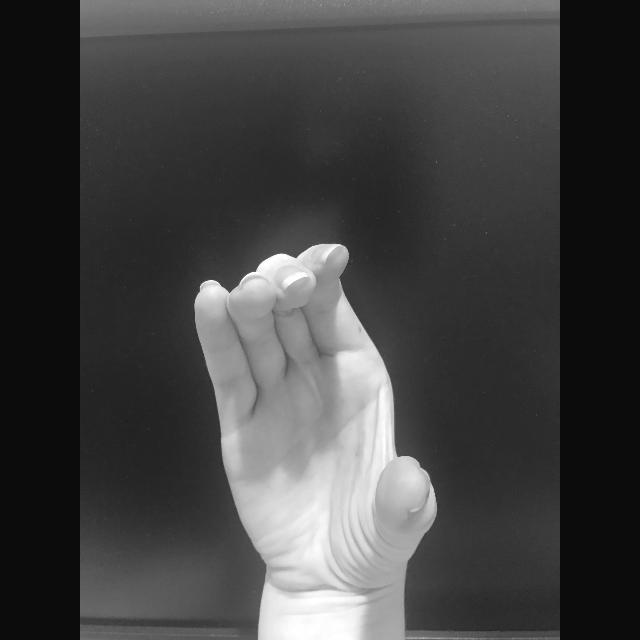C: (188, 238, 444, 600)
